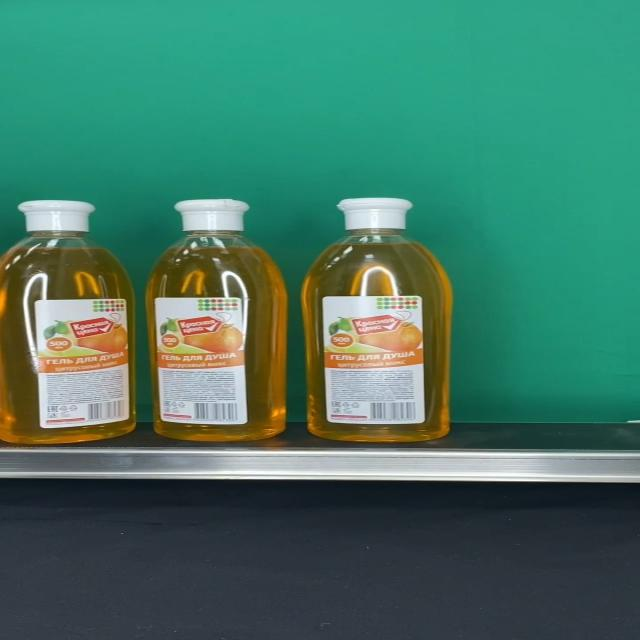Bottle: (302, 198, 453, 441), (145, 198, 289, 440), (0, 201, 135, 444)
Cap: (173, 199, 250, 232), (18, 200, 94, 232), (337, 198, 413, 230)
